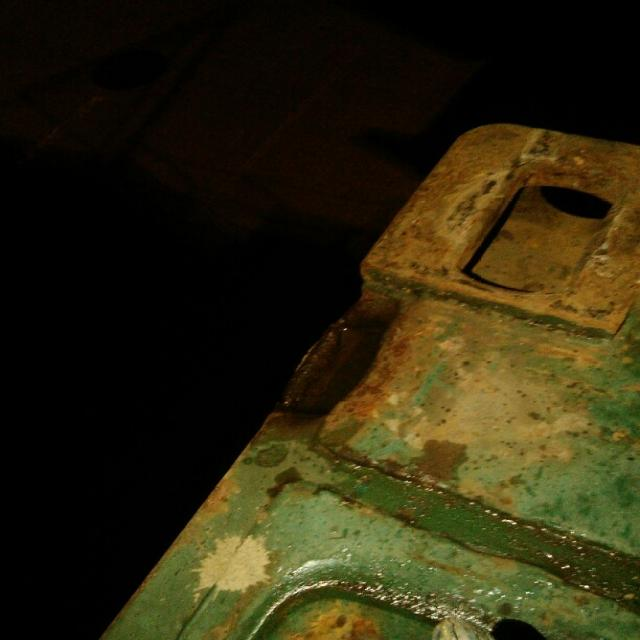hole: (259, 288, 427, 444)
